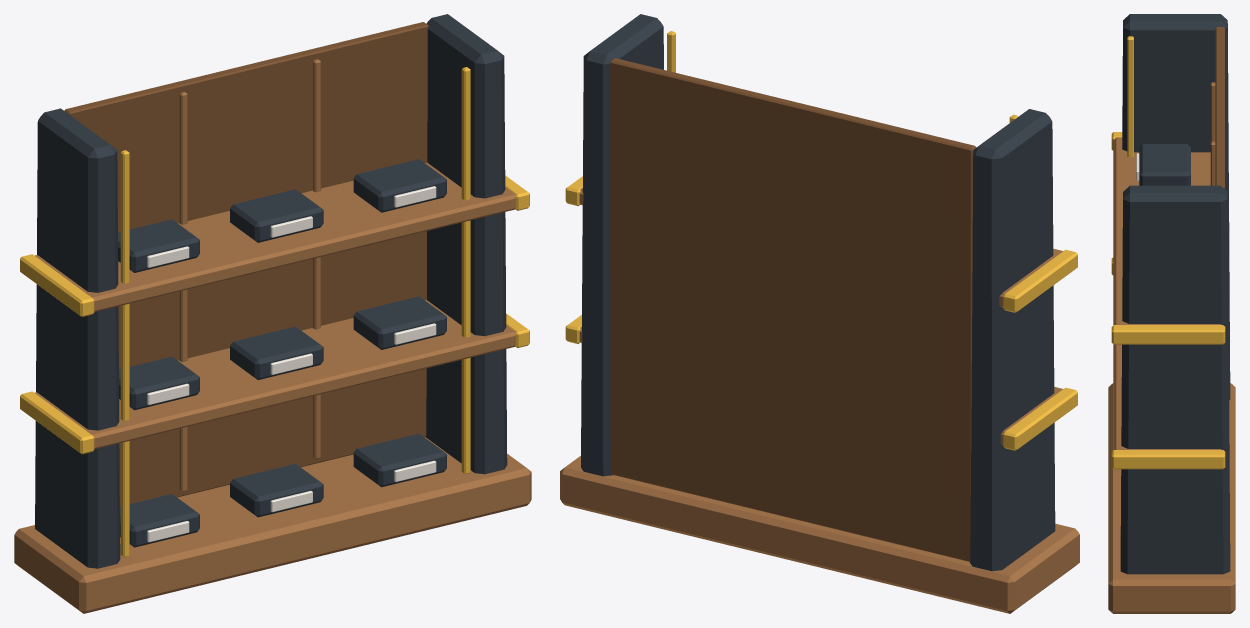
The model's file is Gallery_Shelf.fbx.
3 views of the same model, side by side, from view 1: azimuth 30°, elevation 25°; view 2: azimuth 150°, elevation 25°; view 3: azimuth 270°, elevation 25° (orthographic). The views are drawn at different scales.
Visible parts, largest first — view 1: FrameDark, WoodDark, Wood, Amber_Metal, Cream_SmoothPlastic; view 2: WoodDark, FrameDark, Wood, Amber_Metal; view 3: FrameDark, Wood, Amber_Metal, WoodDark.
Boxes of the visible parts, bbox=[...] form: FrameDark: bbox=[35, 14, 507, 568]; WoodDark: bbox=[64, 22, 428, 506]; Wood: bbox=[14, 59, 531, 613]; Amber_Metal: bbox=[20, 67, 529, 557]; Cream_SmoothPlastic: bbox=[147, 186, 436, 542]; WoodDark: bbox=[610, 58, 976, 561]; FrameDark: bbox=[581, 14, 1055, 571]; Wood: bbox=[560, 188, 1079, 613]; Amber_Metal: bbox=[565, 31, 1077, 450]; FrameDark: bbox=[1120, 14, 1230, 574]; Wood: bbox=[1108, 82, 1235, 613]; Amber_Metal: bbox=[1111, 36, 1225, 469]; WoodDark: bbox=[1215, 27, 1224, 188].
Bounding box in the file's own units: 6.9 × 6.61 × 1.85.
